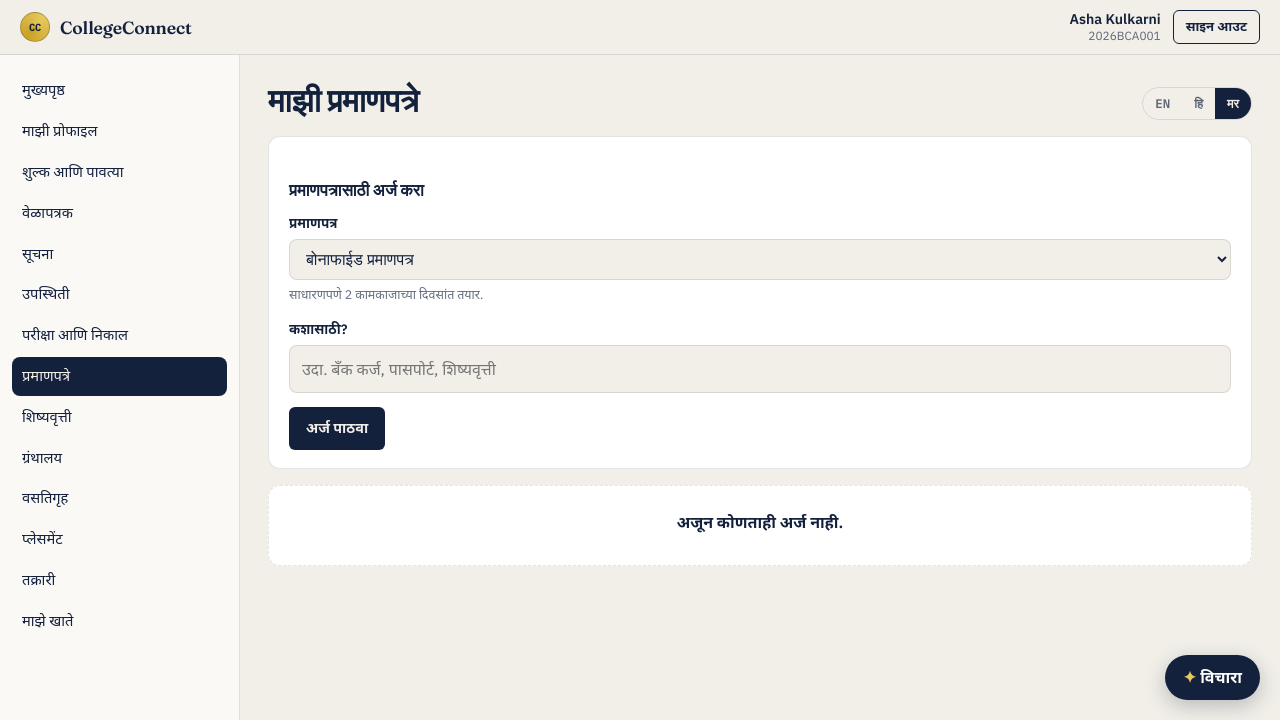
it: certificates › a student asks for a bonafide in Marathi and sees the promised date
Expected: the text "साधारणपणे 2 कामकाजाच्या दिवसांत तयार." is shown, [289, 286, 483, 302]
Type "Bank loan" into the field labelled "कशासाठी?" at coordinates (760, 369), box [289, 345, 1231, 393]
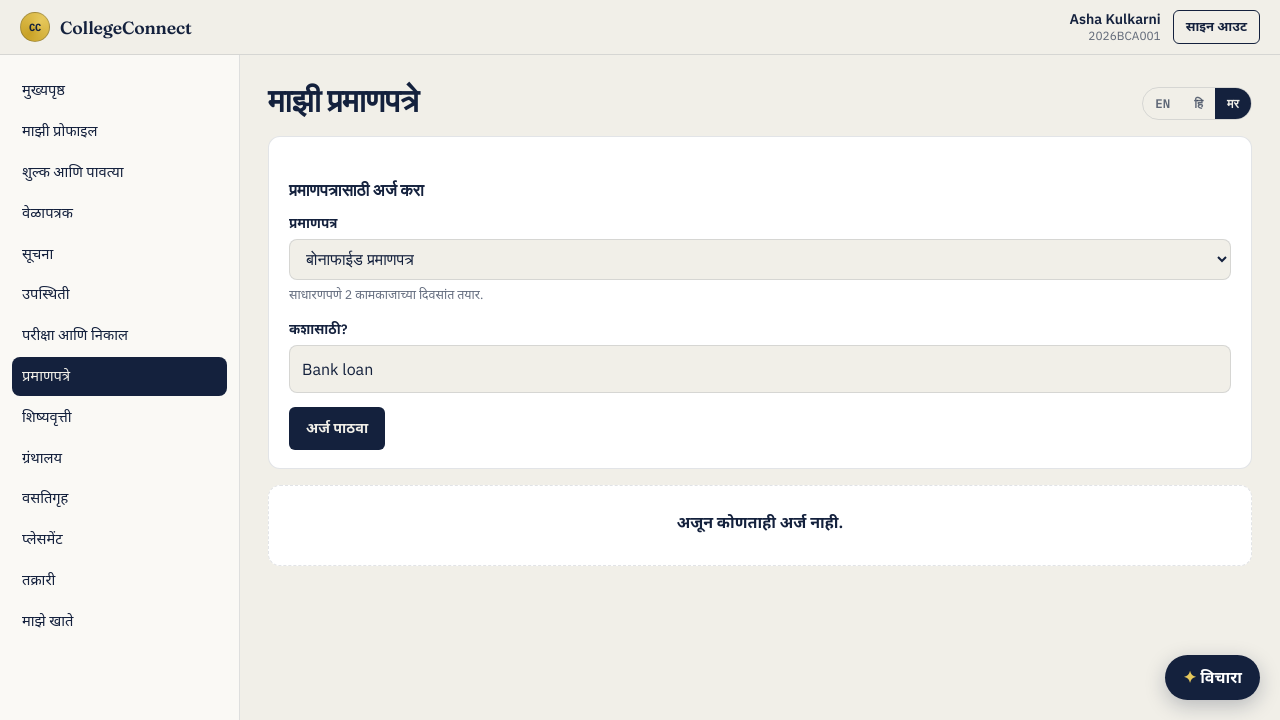
Click the button "अर्ज पाठवा" at coordinates (337, 429), box [289, 407, 385, 450]
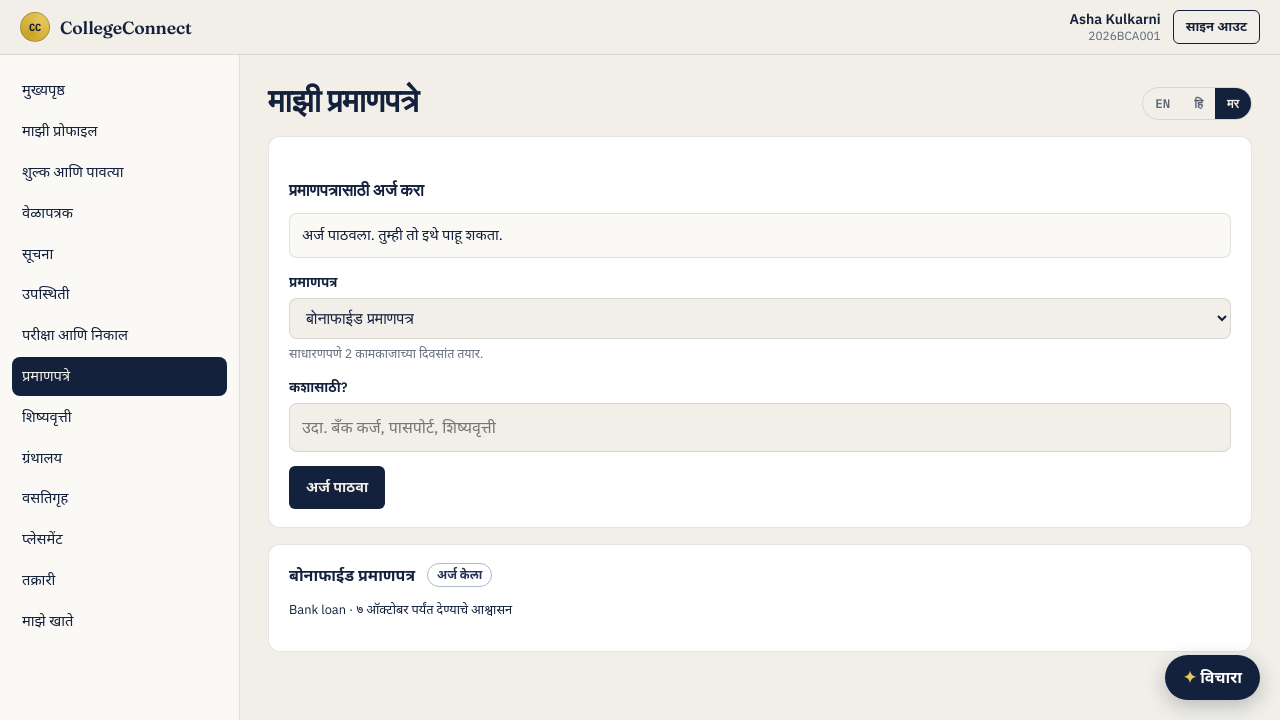
Expected: the link "प्रमाणपत्रे" is shown, [12, 357, 227, 396]
Expected: the text "पर्यंत देण्याचे आश्वासन" is shown, [356, 601, 512, 618]
